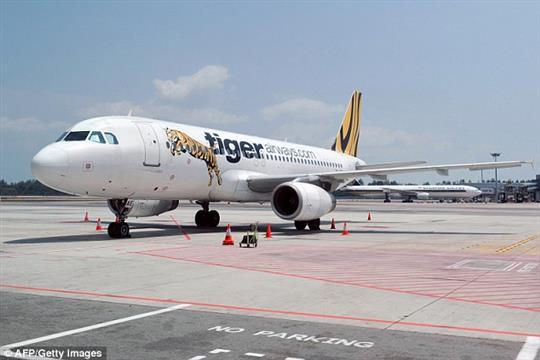airplane: (27, 89, 530, 237)
